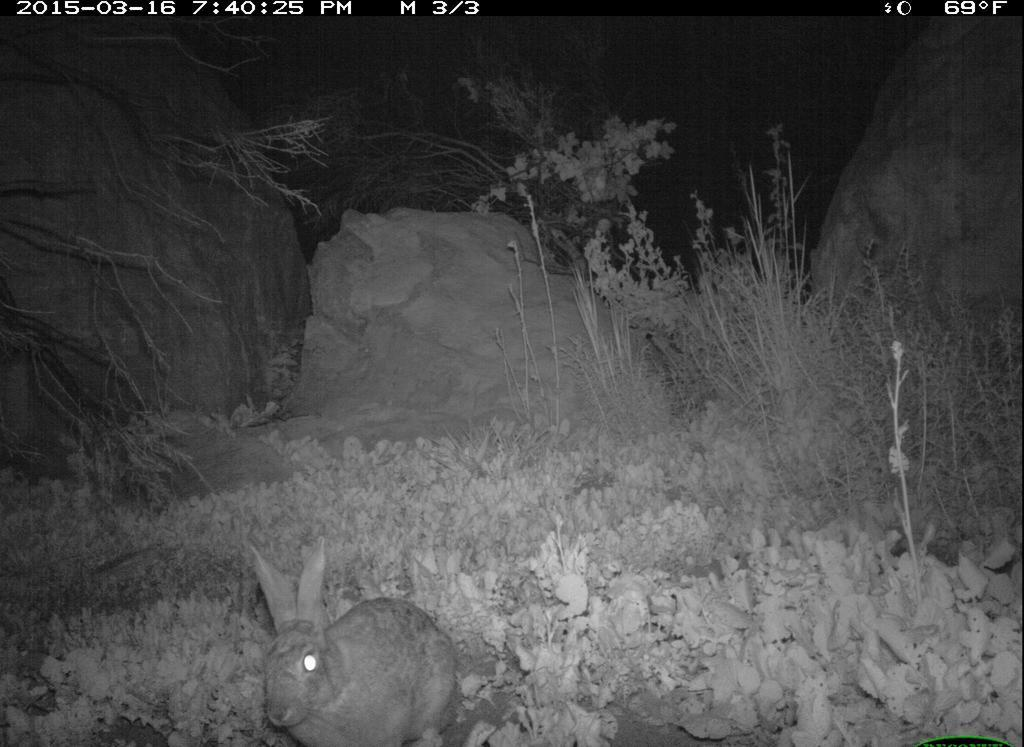rabbit: (232, 530, 477, 740)
